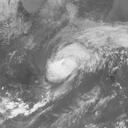cyclone: (44, 53, 81, 85)
